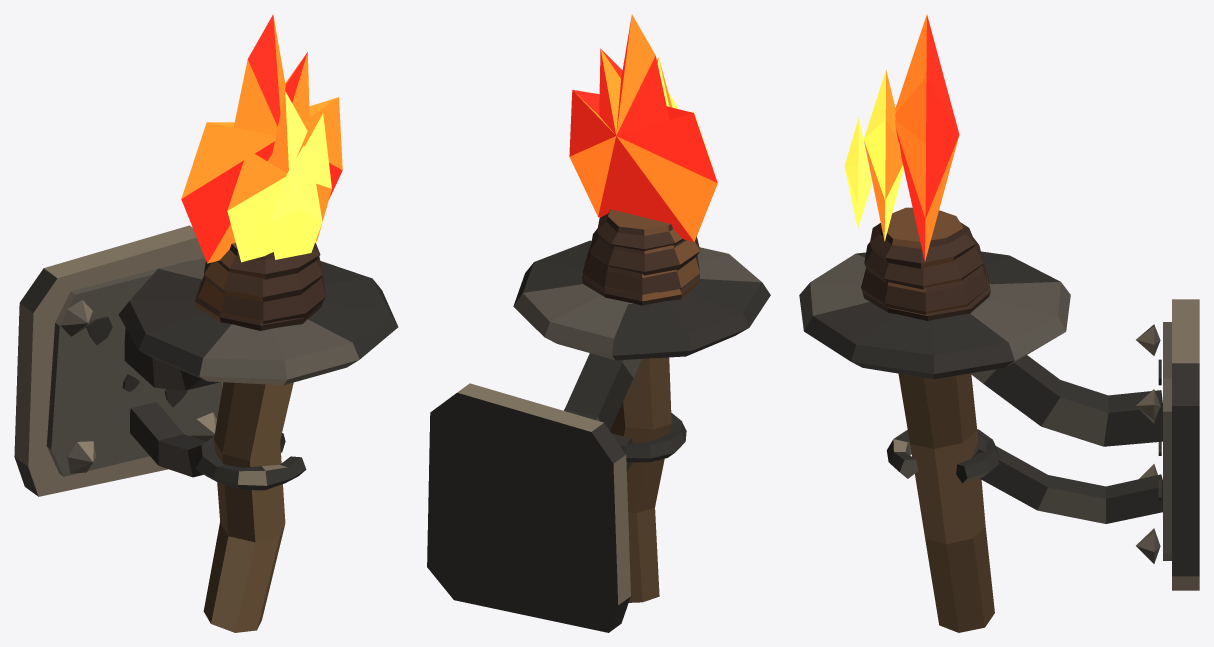
Rendered from cellar_wall_torch_v1.glb.
The picture shows the model from 3 angles, left to right: view 1: azimuth 30°, elevation 25°; view 2: azimuth 150°, elevation 25°; view 3: azimuth 270°, elevation 25°; orthographic projection. The views are drawn at different scales.
Visible parts, largest first — view 1: TorchStatic, TorchFlameOuter, TorchFlameMiddle, TorchFlameCore; view 2: TorchStatic, TorchFlameOuter; view 3: TorchStatic, TorchFlameOuter, TorchFlameMiddle, TorchFlameCore.
Boxes of the visible parts, x1,y1,x2,y2 form: TorchStatic: (14,225,398,632); TorchFlameOuter: (181,14,342,263); TorchFlameMiddle: (227,91,331,262); TorchFlameCore: (268,145,322,259); TorchStatic: (427,209,770,632); TorchFlameOuter: (569,14,717,241); TorchStatic: (799,207,1199,632); TorchFlameOuter: (895,14,959,261); TorchFlameMiddle: (863,69,903,241); TorchFlameCore: (844,117,871,228).
Bounding box in the file's own units: 0.71 × 1.72 × 1.01.
